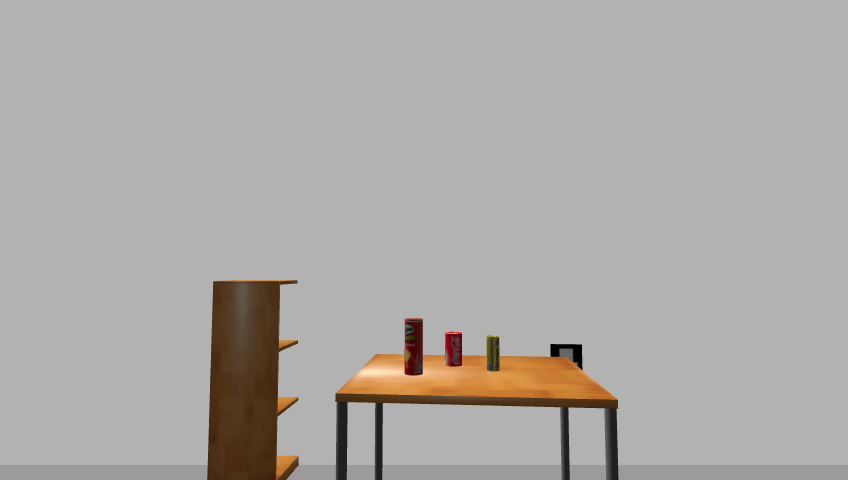aruco marker: (546, 342, 585, 373)
biscuits pack: (486, 335, 501, 373)
bookshelf: (204, 277, 305, 480)
coke can: (443, 331, 464, 368)
dinner table: (330, 352, 627, 480)
pringles can: (402, 317, 424, 377)
